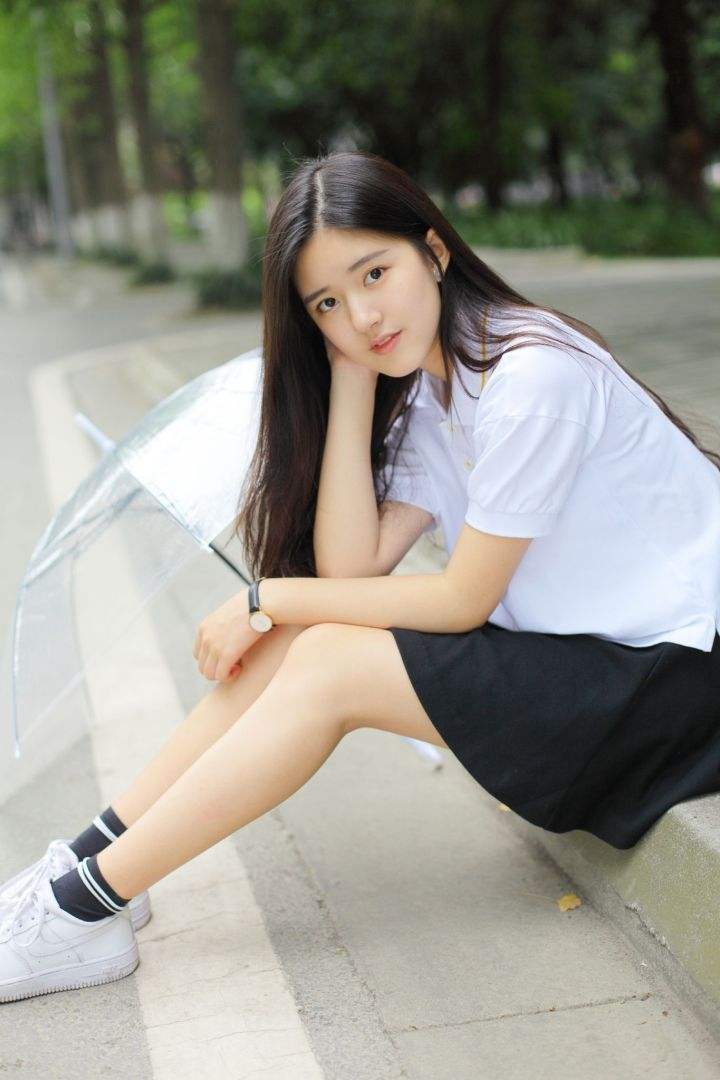person: (243, 175, 508, 381)
